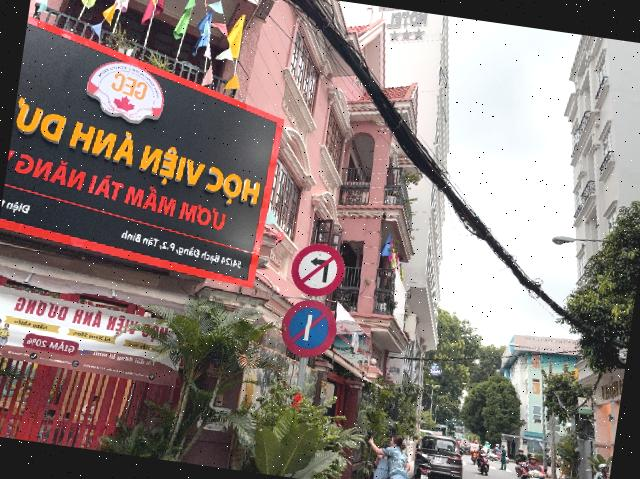cam-do-xe-ngay-le: (278, 296, 340, 362)
cam-re-phai: (288, 240, 348, 301)
